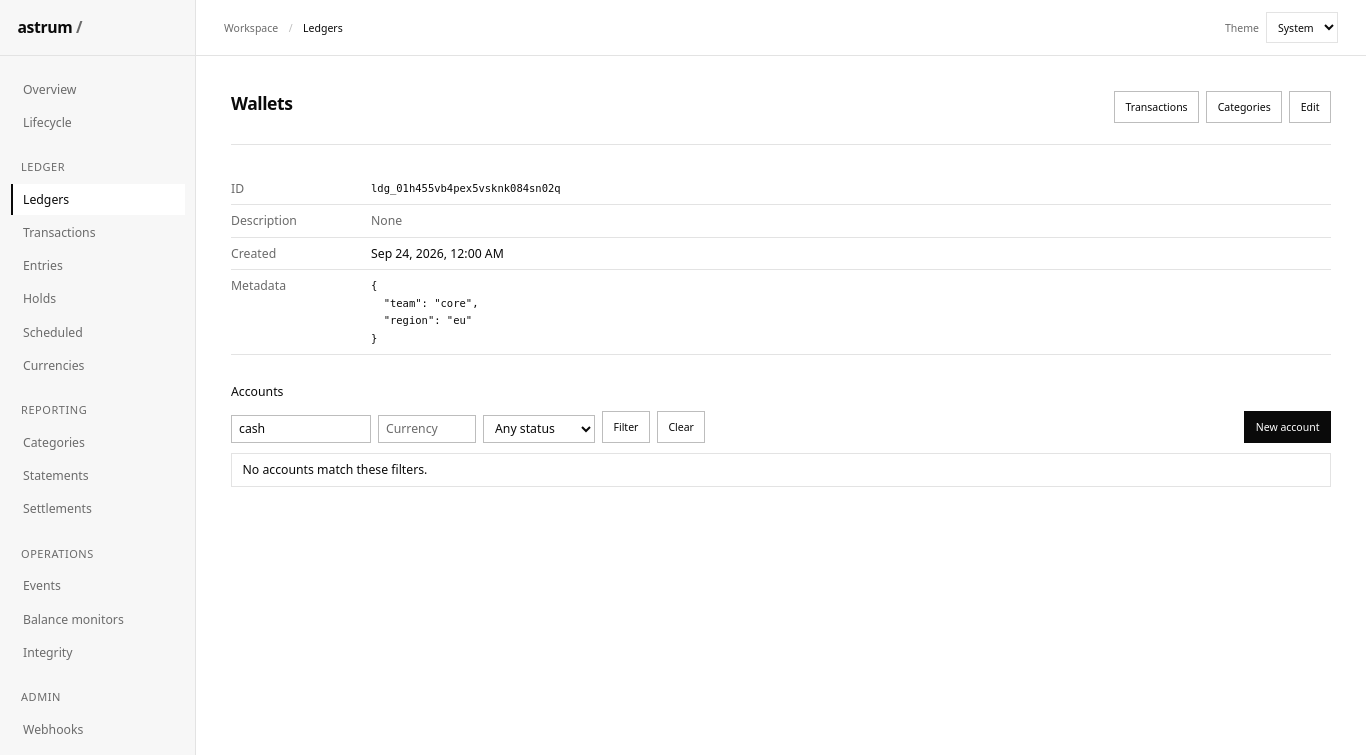
filter bar › treats submitted blank filters as no filters
Expected: the text "No accounts match these filters." is shown, [231,453,1331,486]
Step 1. Clear the field named "Code" → (301, 428), box [231,414,371,442]
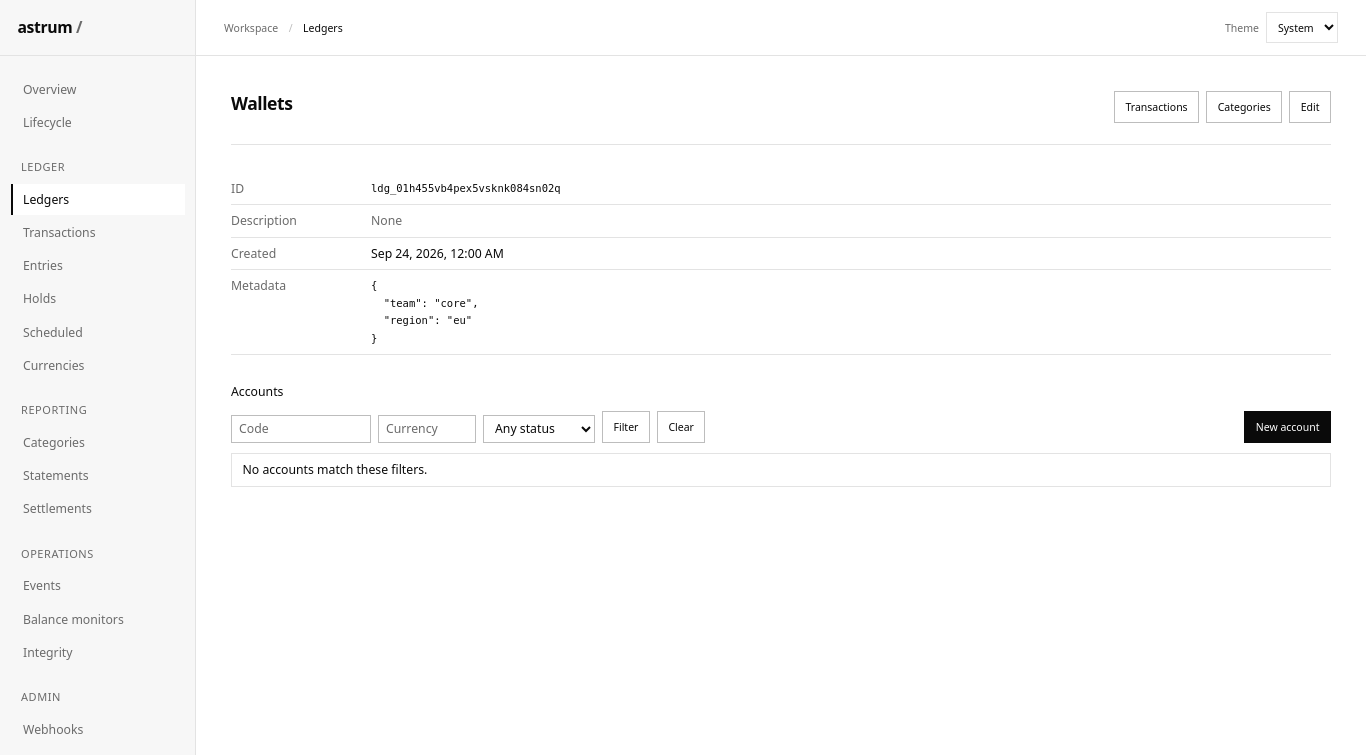
Step 2. Click the button "Filter" → (626, 427), box [602,411,650,442]
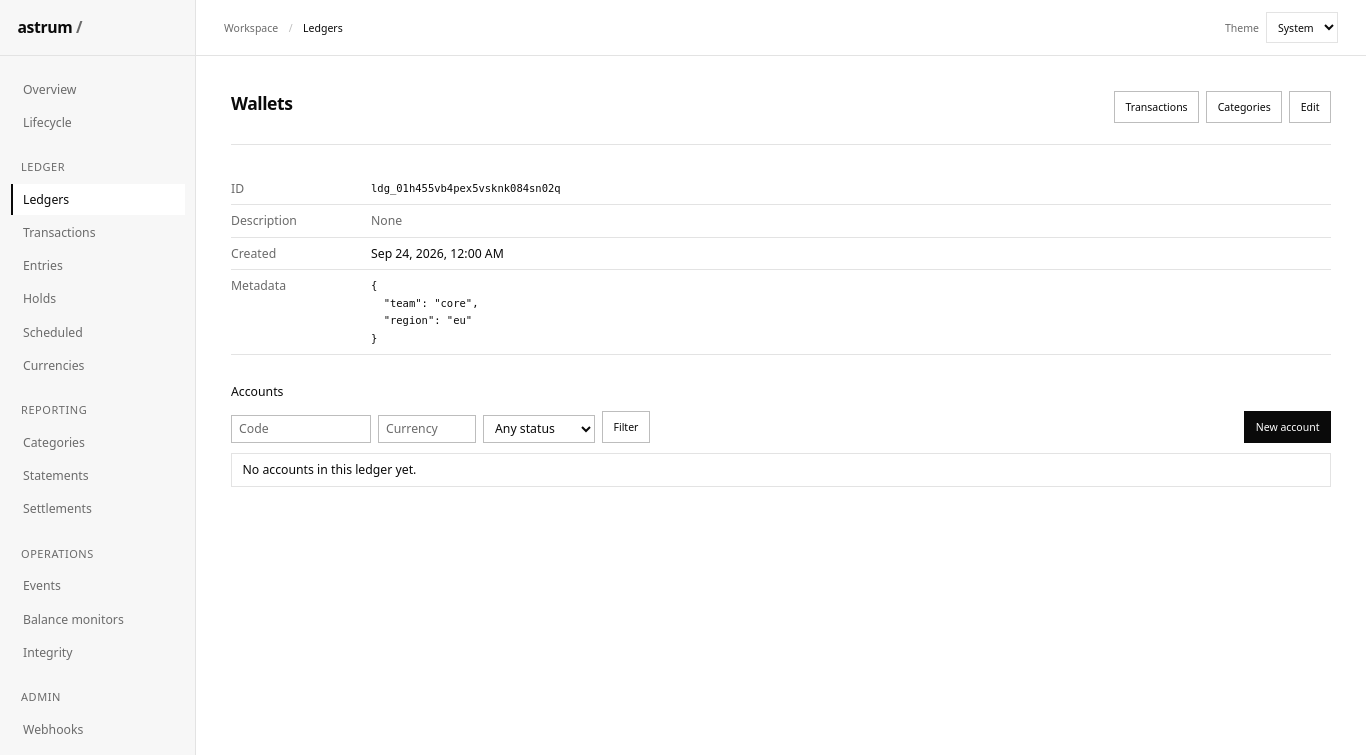
Expected: the text "No accounts in this ledger yet." is shown, [231,453,1331,486]
Expected: the link "Clear" is gone
